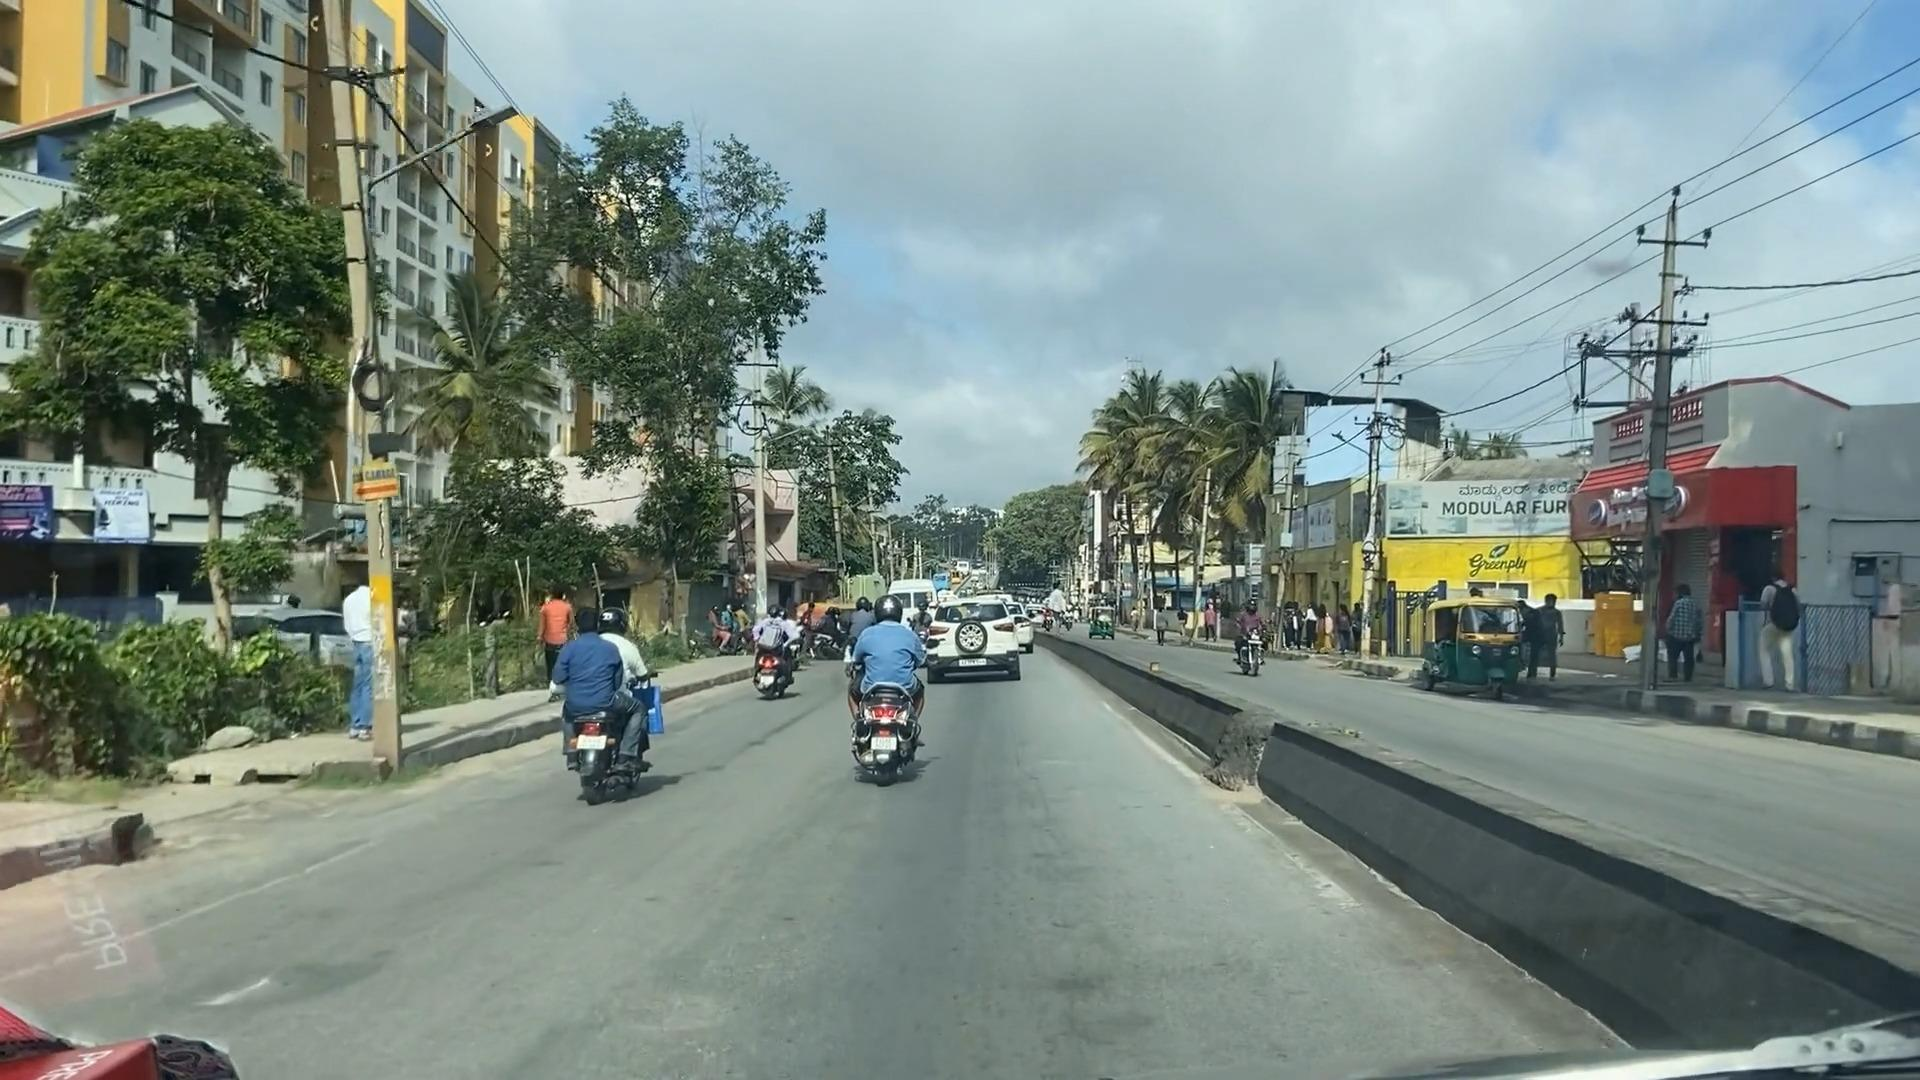LMV: (550, 620, 654, 793), (861, 615, 924, 770), (928, 600, 1018, 691), (758, 608, 798, 687)
